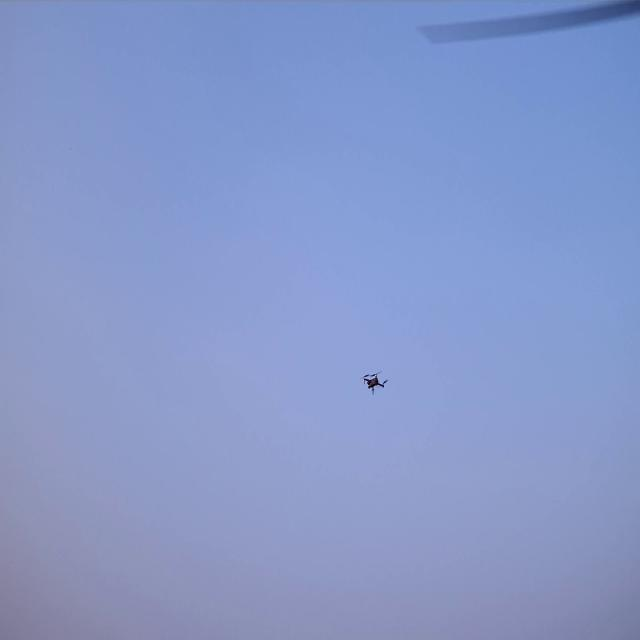UAV: (364, 374, 385, 394)
